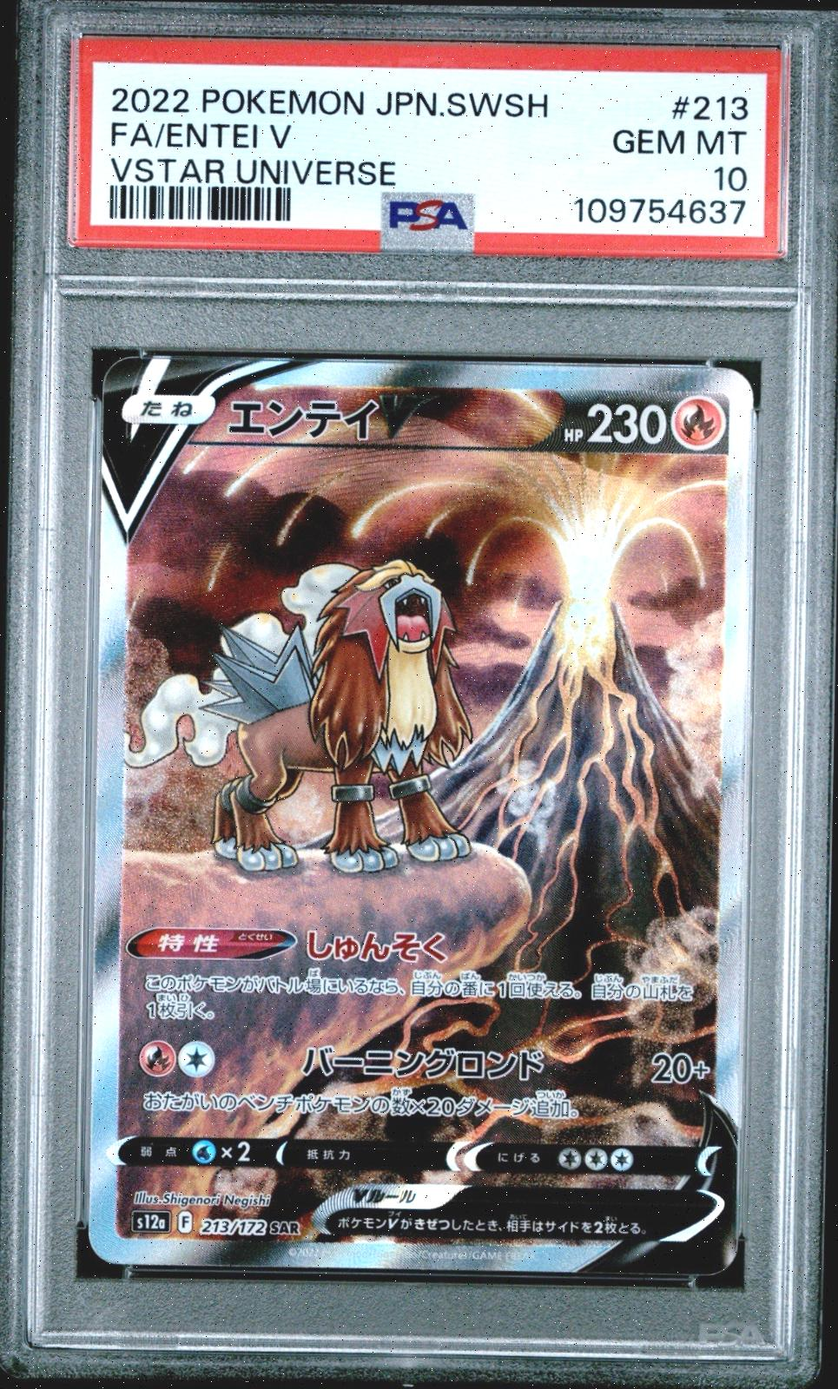card-2UtV: (86, 355, 754, 1277)
